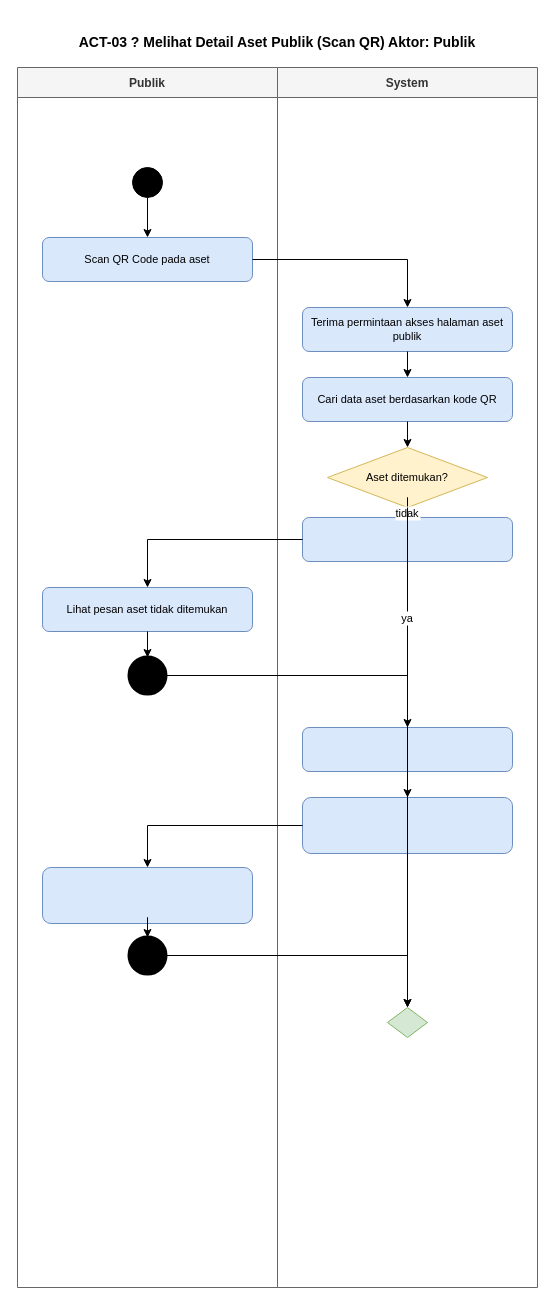
This 555x1305 diagram has some shape labels left out. Each missing label, with the box of its shape:
Ambil data aset publik: (302, 726, 512, 772)
Lihat detail aset (kondisi, lokasi, spesifikasi): (42, 866, 252, 924)
Tampilkan halaman detail aset (tanpa login): (302, 796, 512, 854)
Tampilkan pesan aset tidak ditemukan: (302, 516, 512, 562)
